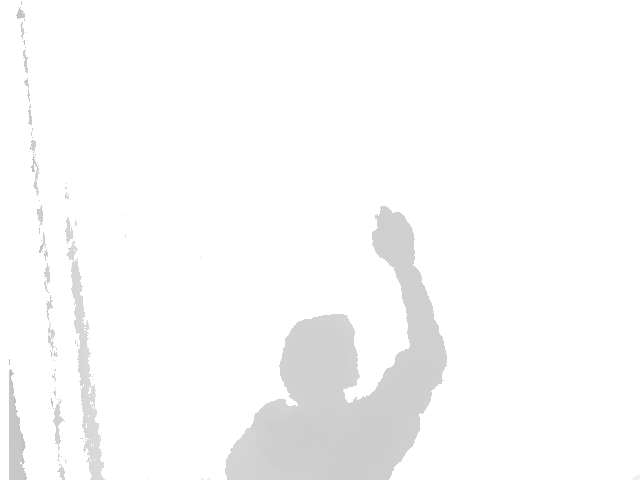hand: (371, 206, 415, 268)
head: (278, 313, 360, 406)
person: (224, 206, 449, 480)
